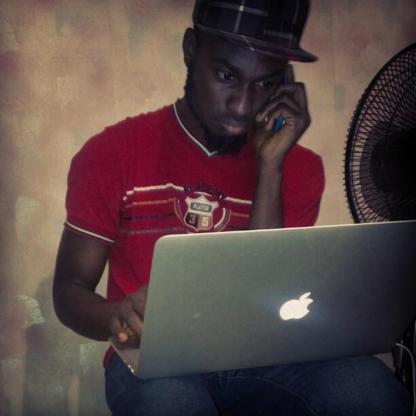board: (111, 217, 416, 400)
